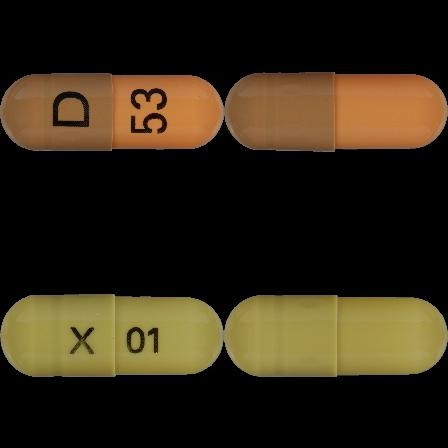57237-014: (0, 0, 224, 224)
